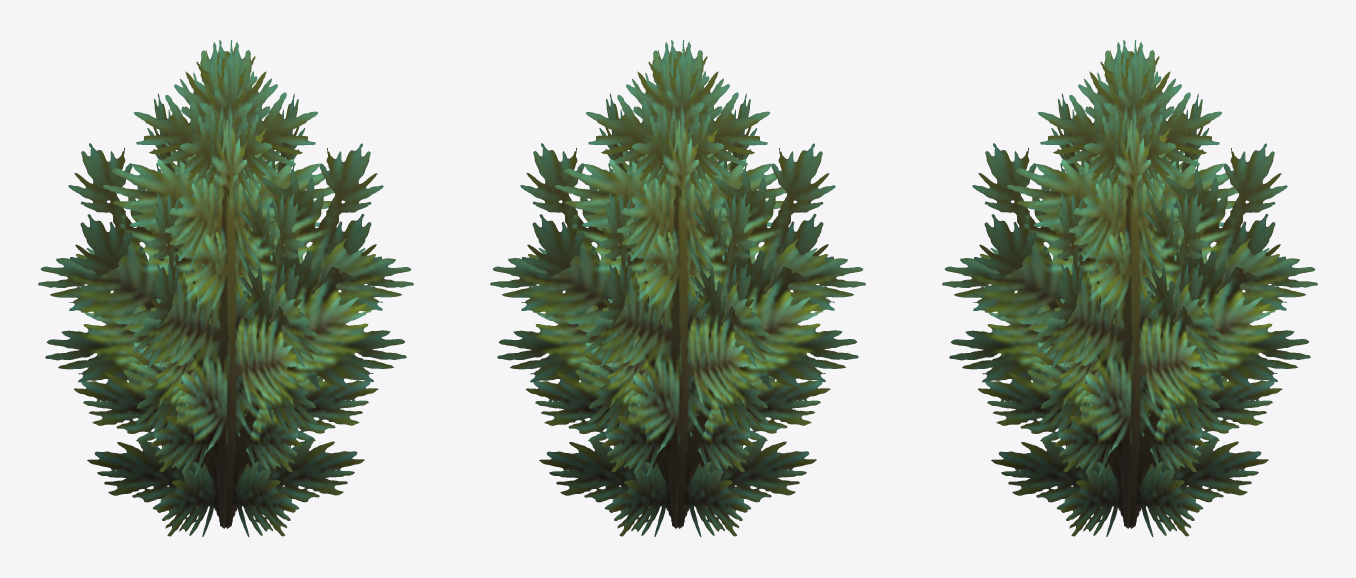
Rendered from HP3_pine3 1.fbx.
The picture shows the model from 3 angles, left to right: view 1: azimuth 30°, elevation 25°; view 2: azimuth 150°, elevation 25°; view 3: azimuth 270°, elevation 25°; orthographic projection.
Parts seen in each view (by area): view 1: HP3_pine3; view 2: HP3_pine3; view 3: HP3_pine3.
Boxes of the visible parts, box(x1,y1,x2,y2) form: HP3_pine3: box(38, 39, 413, 536); HP3_pine3: box(490, 39, 865, 536); HP3_pine3: box(942, 39, 1317, 536).
Bounding box in the file's own units: 6.59 × 10.32 × 7.6.
